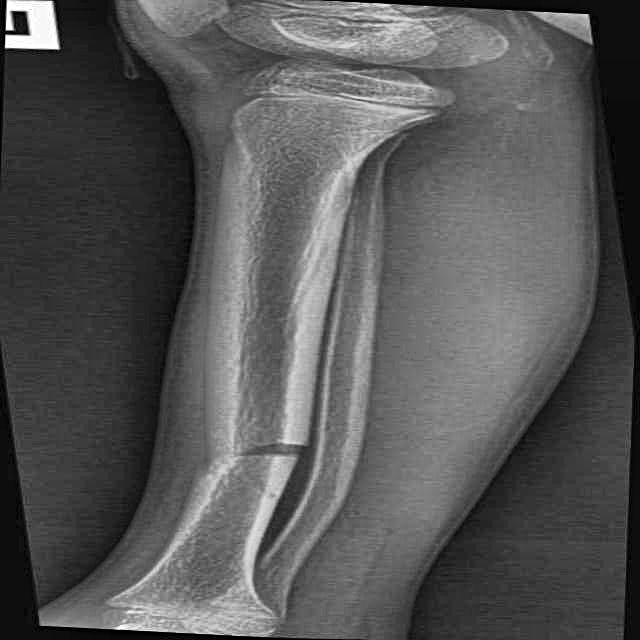Greenstick: (206, 406, 350, 490)
